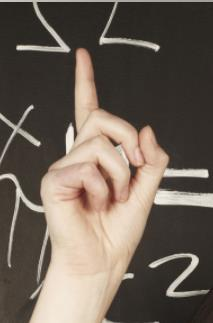up: (38, 48, 169, 273)
